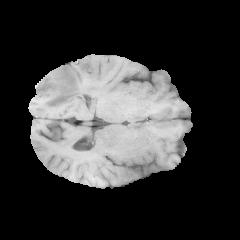glioma: (35, 54, 112, 107)
